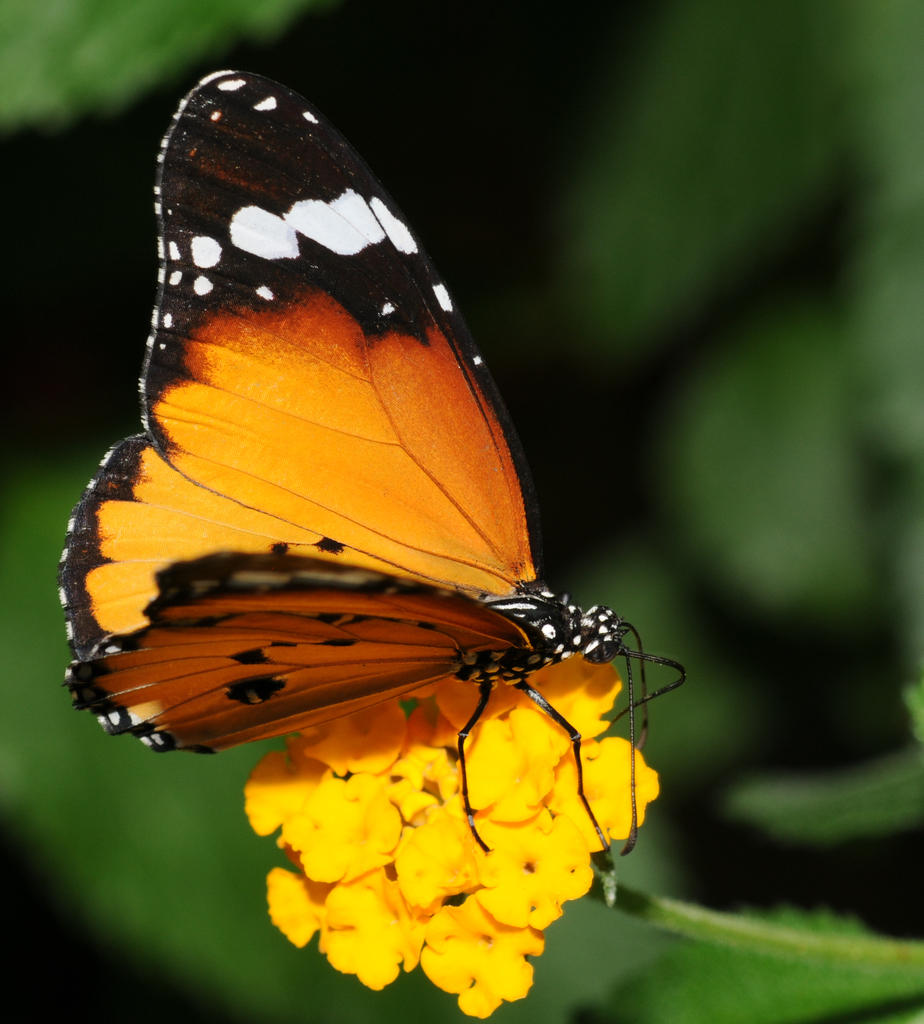Butterfly: (71, 27, 636, 742)
